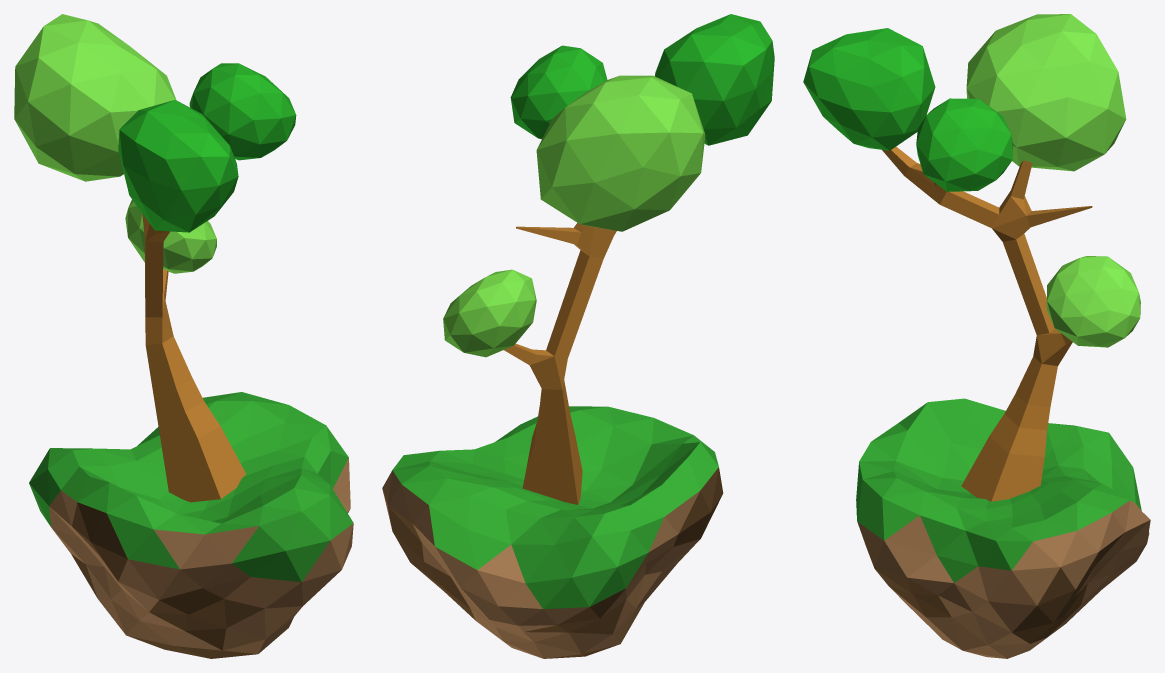
The model's file is catparkourstartscreen.glb.
The picture shows the model from 3 angles, left to right: view 1: azimuth 30°, elevation 25°; view 2: azimuth 150°, elevation 25°; view 3: azimuth 270°, elevation 25°; orthographic projection. The views are drawn at different scales.
Parts seen in each view (by area): view 1: Icosphere, Icosphere.002, Icosphere.001, Cube, Icosphere.003, Icosphere.004; view 2: Icosphere, Icosphere.002, Cube, Icosphere.001, Icosphere.004, Icosphere.003; view 3: Icosphere, Icosphere.002, Cube, Icosphere.001, Icosphere.003, Icosphere.004.
Part boxes in pixels (bbox=[...]): Icosphere: bbox=[29, 392, 353, 658]; Icosphere.002: bbox=[14, 14, 176, 181]; Icosphere.001: bbox=[118, 100, 238, 232]; Cube: bbox=[142, 214, 245, 502]; Icosphere.003: bbox=[189, 63, 296, 160]; Icosphere.004: bbox=[125, 199, 216, 273]; Icosphere: bbox=[382, 406, 723, 658]; Icosphere.002: bbox=[536, 75, 705, 231]; Cube: bbox=[504, 223, 616, 504]; Icosphere.001: bbox=[655, 14, 774, 145]; Icosphere.004: bbox=[443, 269, 536, 357]; Icosphere.003: bbox=[510, 45, 607, 139]; Icosphere: bbox=[856, 398, 1150, 658]; Icosphere.002: bbox=[966, 14, 1126, 171]; Cube: bbox=[882, 146, 1092, 501]; Icosphere.001: bbox=[803, 28, 935, 150]; Icosphere.003: bbox=[916, 98, 1012, 191]; Icosphere.004: bbox=[1046, 256, 1140, 347].
Size of the model in its own units: 2.03 by 3.88 by 2.12.
